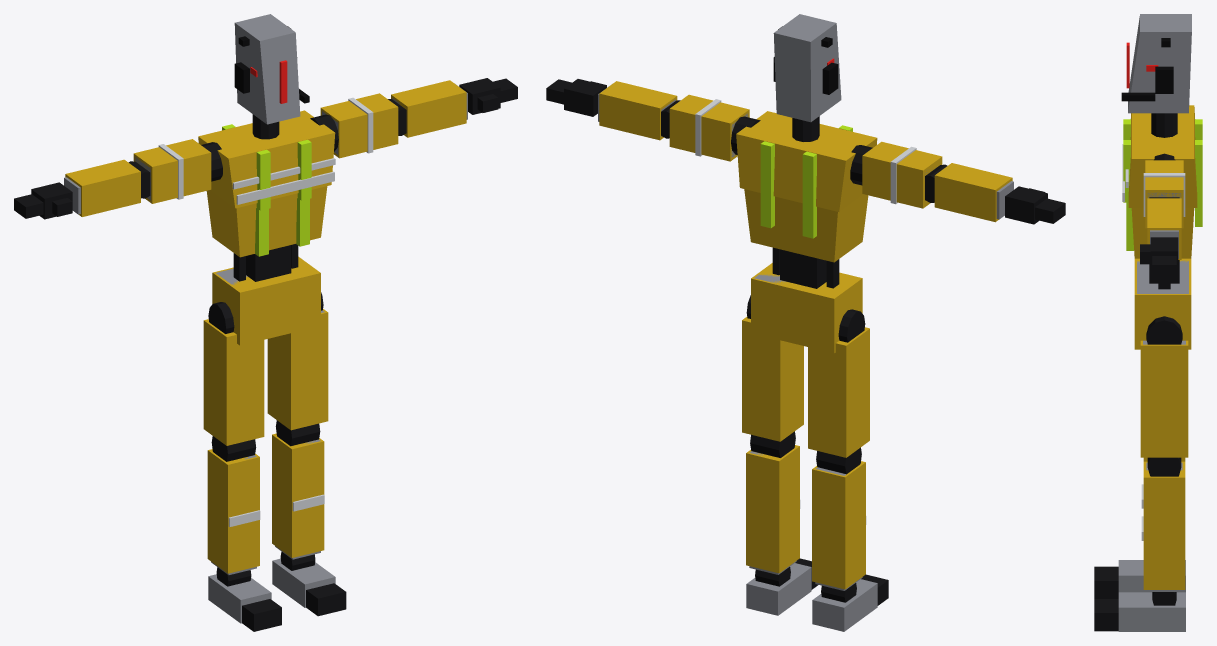
Rendered from char_F2_cargo_handler.obj.
3 views of the same model, side by side, from view 1: azimuth 30°, elevation 25°; view 2: azimuth 150°, elevation 25°; view 3: azimuth 270°, elevation 25° (orthographic). The views are drawn at different scales.
Parts seen in each view (by area): view 1: Coverall_Cargo, ChassisJoints, Chassis, CargoHarness, CargoHarness_Reflect, Coverall_Cargo_Stripe; view 2: Coverall_Cargo, ChassisJoints, Chassis, CargoHarness, Coverall_Cargo_Stripe; view 3: Coverall_Cargo, Chassis, ChassisJoints, CargoHarness, Headset, Coverall_Cargo_Stripe, CargoHarness_Reflect, Eyes.
Boxes of the visible parts, x1,y1,x2,y2 form: Coverall_Cargo: (65, 80, 466, 573); ChassisJoints: (14, 78, 517, 631); Chassis: (64, 14, 467, 623); CargoHarness: (222, 124, 311, 256); CargoHarness_Reflect: (228, 171, 334, 526); Coverall_Cargo_Stripe: (158, 97, 373, 199); Coverall_Cargo: (599, 81, 1012, 589); ChassisJoints: (546, 79, 1065, 605); Chassis: (598, 14, 1013, 631); CargoHarness: (760, 125, 852, 238); Coverall_Cargo_Stripe: (695, 99, 916, 204); Coverall_Cargo: (1128, 105, 1197, 589); Chassis: (1118, 14, 1191, 631); ChassisJoints: (1094, 113, 1182, 631); CargoHarness: (1123, 119, 1202, 250); Headset: (1121, 38, 1173, 101); Coverall_Cargo_Stripe: (1125, 169, 1185, 216); CargoHarness_Reflect: (1122, 144, 1143, 540); Eyes: (1126, 42, 1158, 88).
Bounding box in the file's own units: 1.69 × 1.86 × 0.3124.
